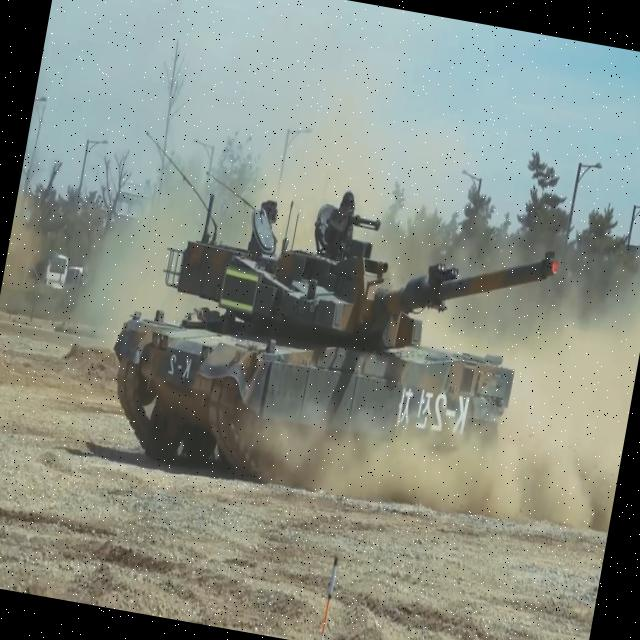korea tank: (94, 153, 566, 527)
